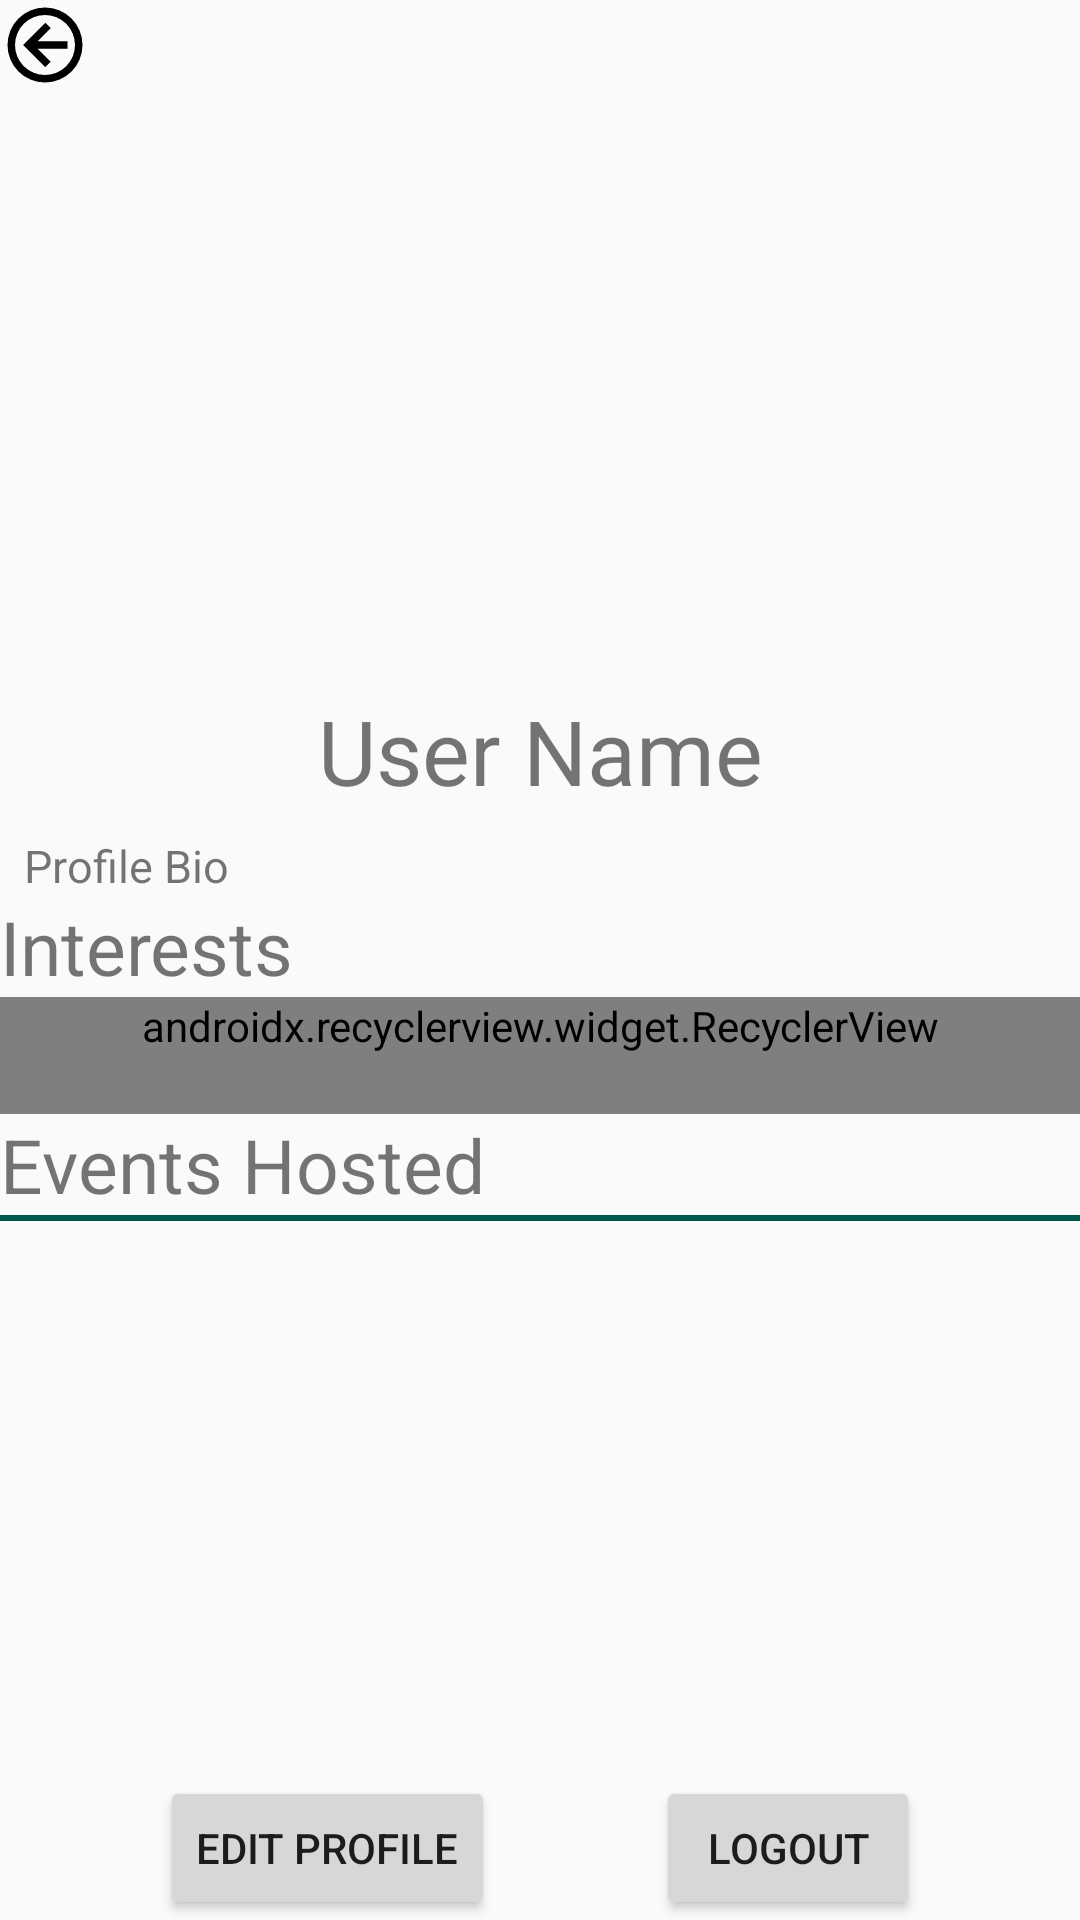

Screen size 1080 x 1920. Icon name, then its center in pixels as (x=x, y=y):
arrow left circle: (x=45, y=45)
